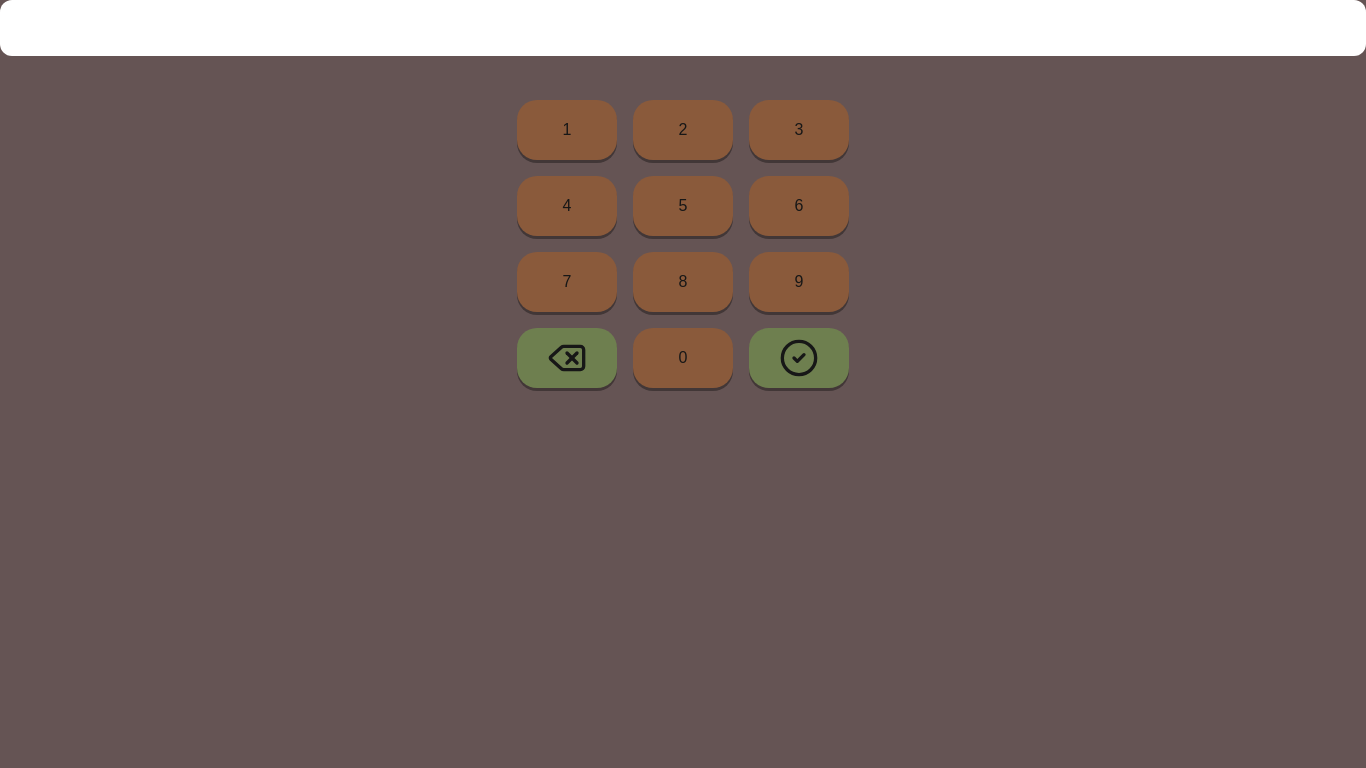
Test: Form › user 데이터를 탐색하는 중일 때는 LoadingSpinner가 렌더링되어야한다.
The width and height of the screenshot is (1366, 768).
Click the button "1" at (567, 130), box [517, 100, 617, 160]
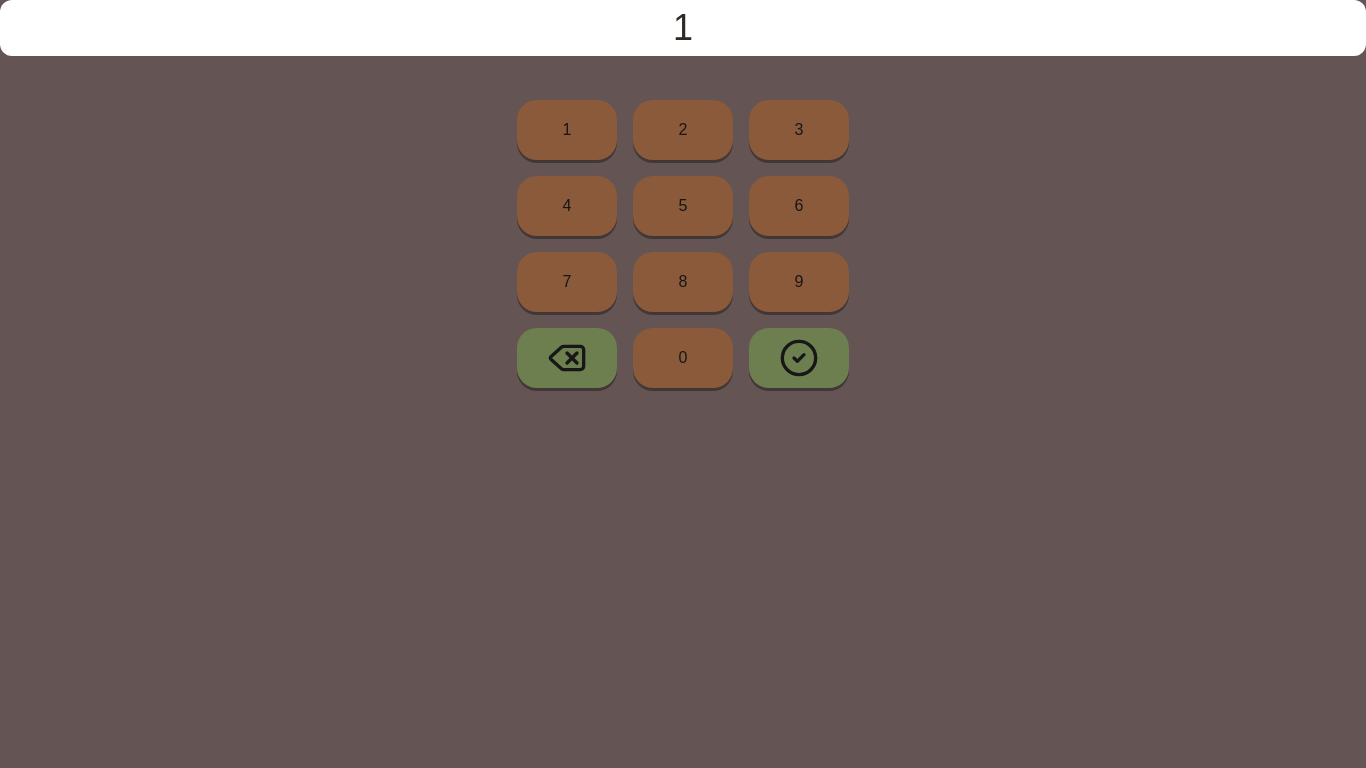
Click the button "2" at (683, 130), box [633, 100, 733, 160]
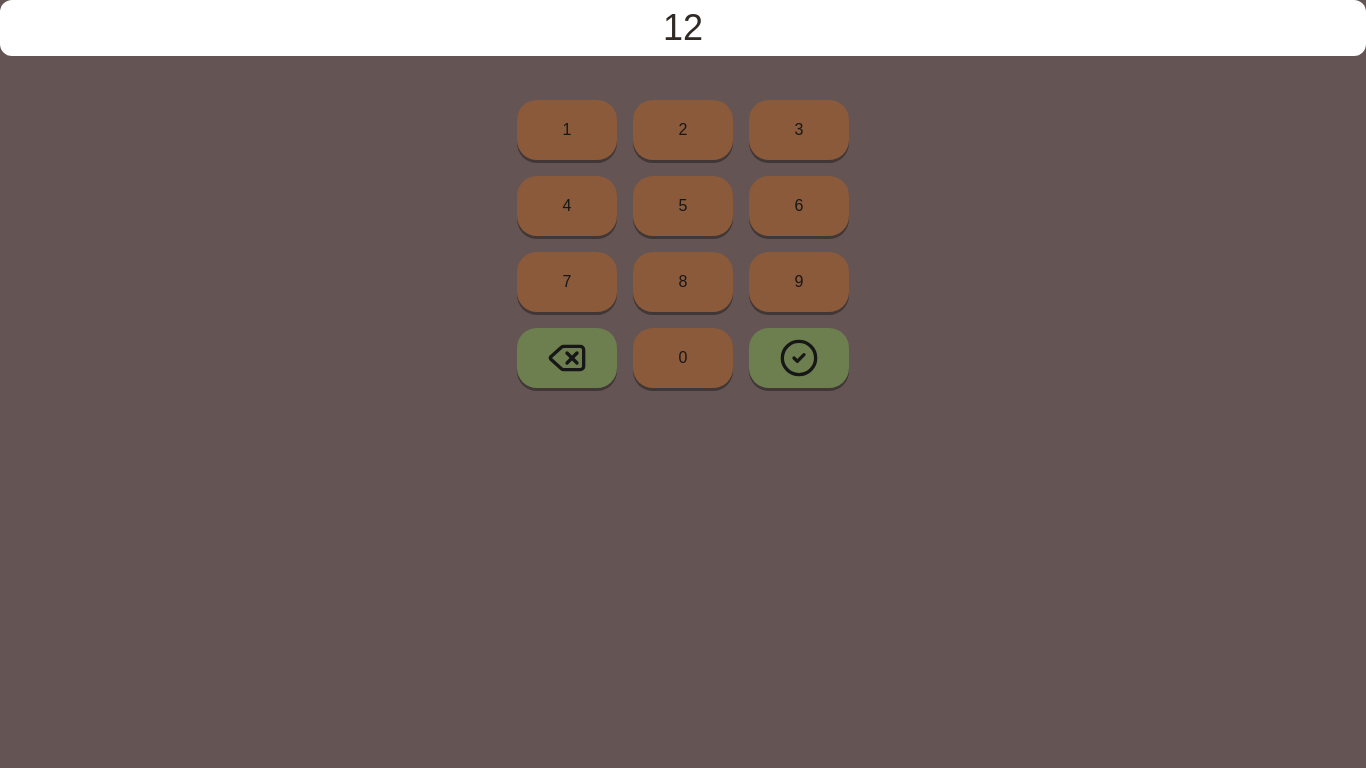
Click the button "3" at (799, 130), box [749, 100, 849, 160]
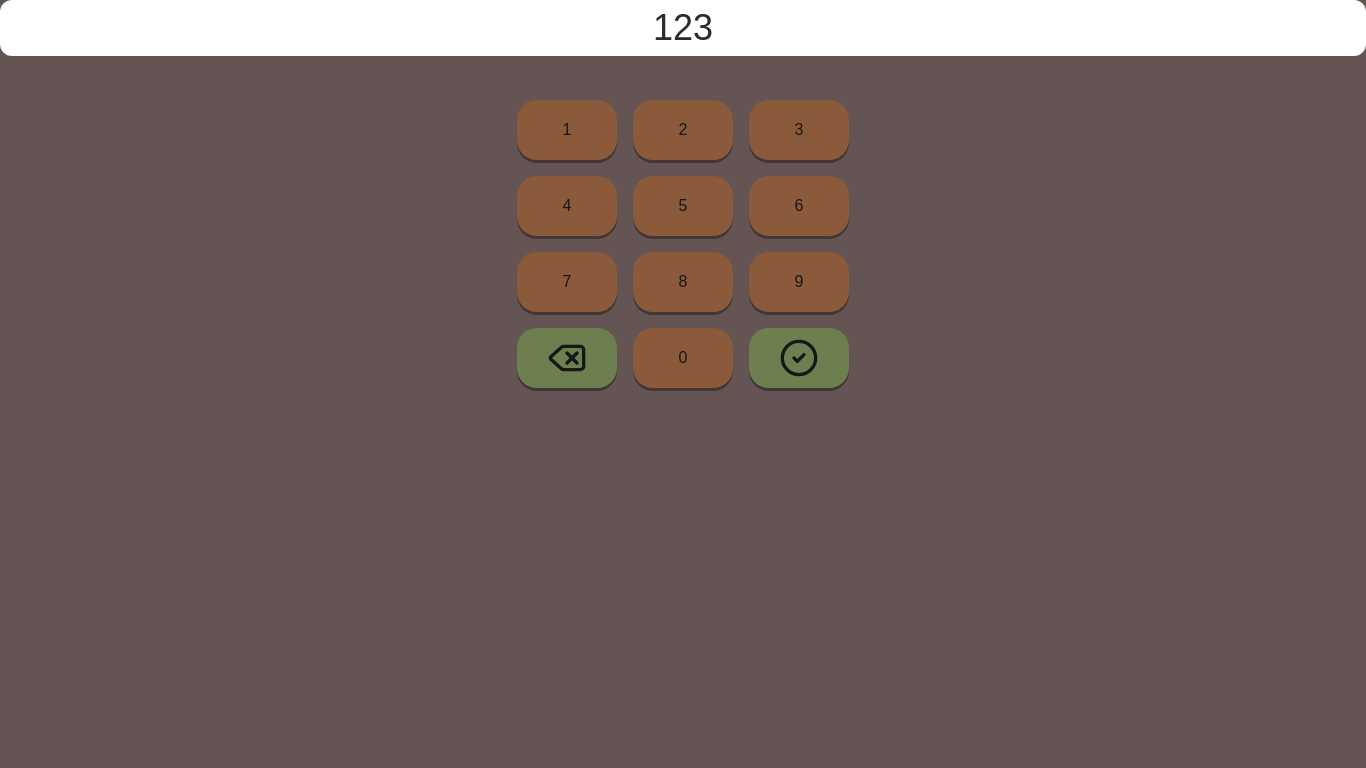
Click the button "4" at (567, 206), box [517, 176, 617, 236]
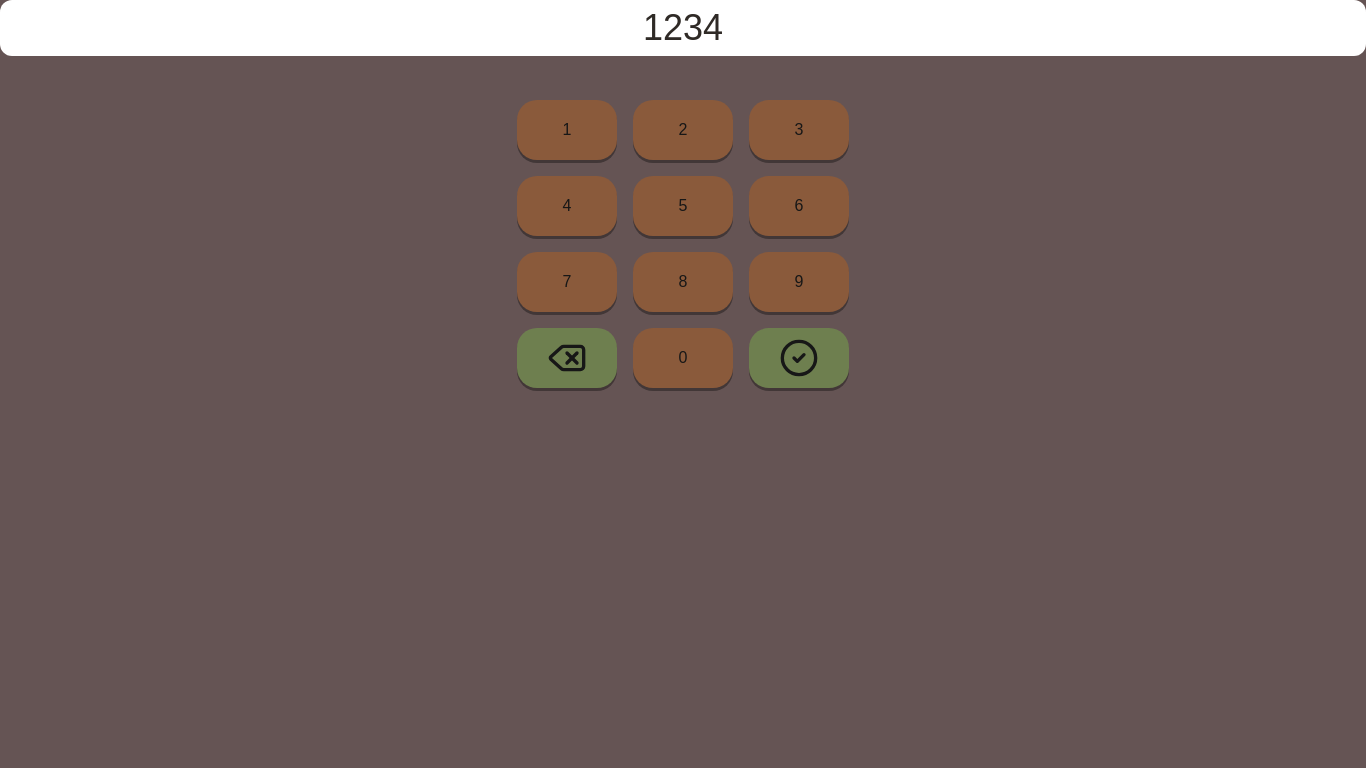
don't await so loading state is visible
Submit the form, box [0, 0, 1365, 388]
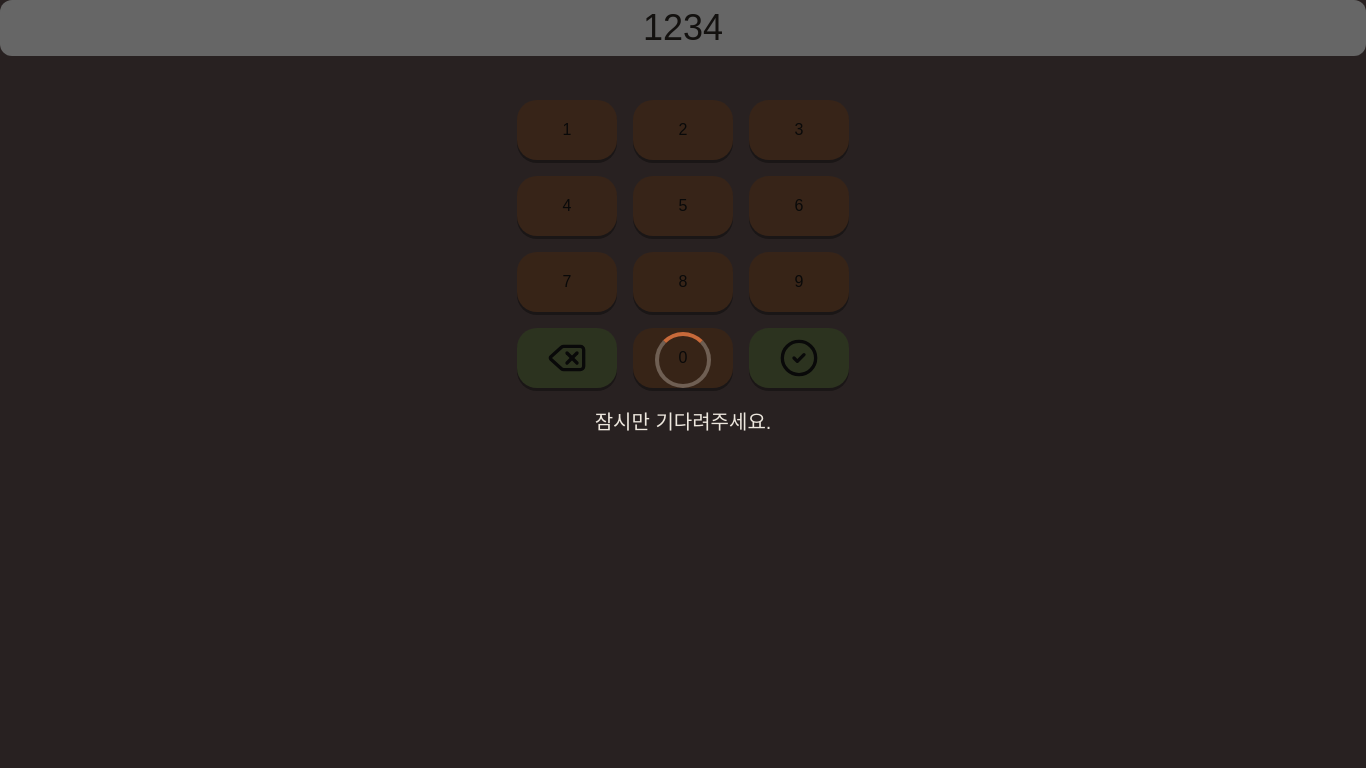
Result: the text "잠시만 기다려주세요." is shown at [595, 408, 771, 436]
